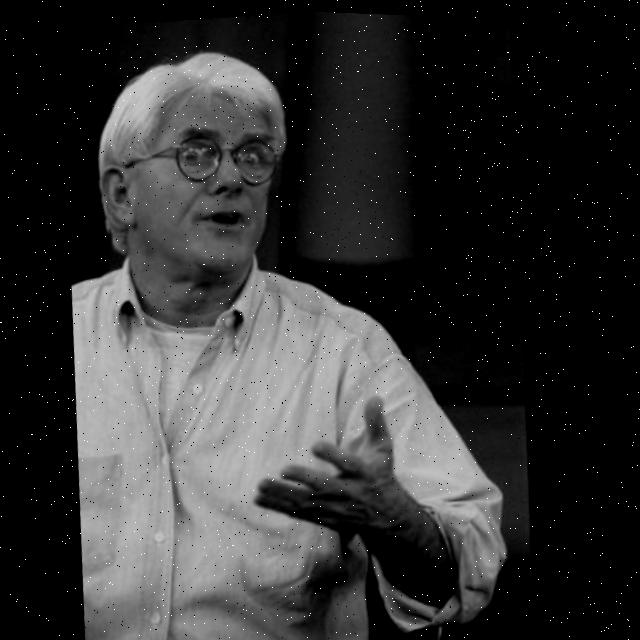face: (92, 49, 301, 309)
